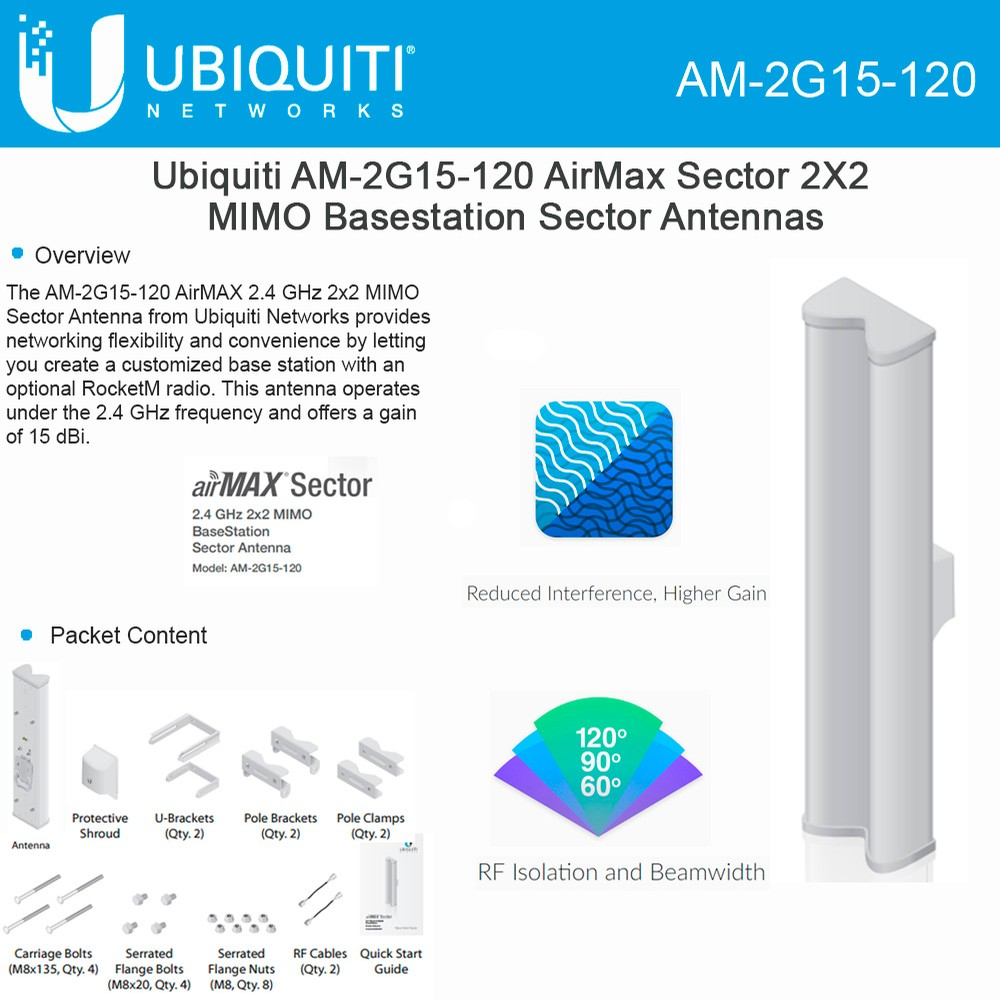sa: (787, 278, 962, 895)
